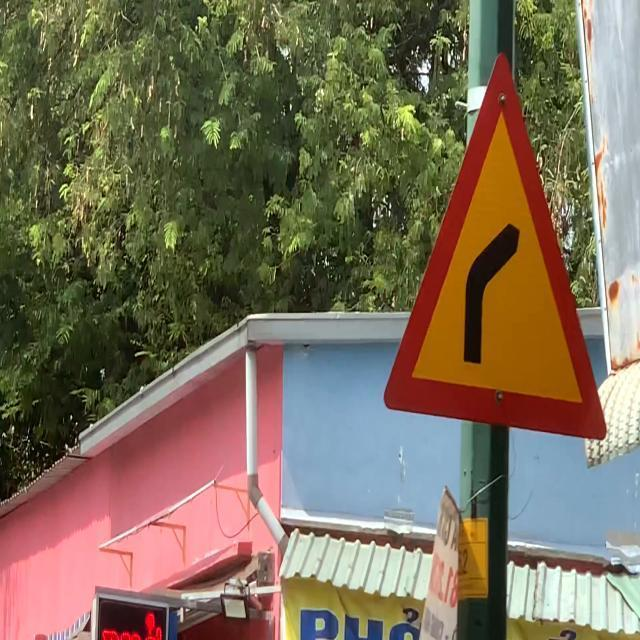201-cho-ngoat-nguy-hiem: (382, 57, 607, 440)
